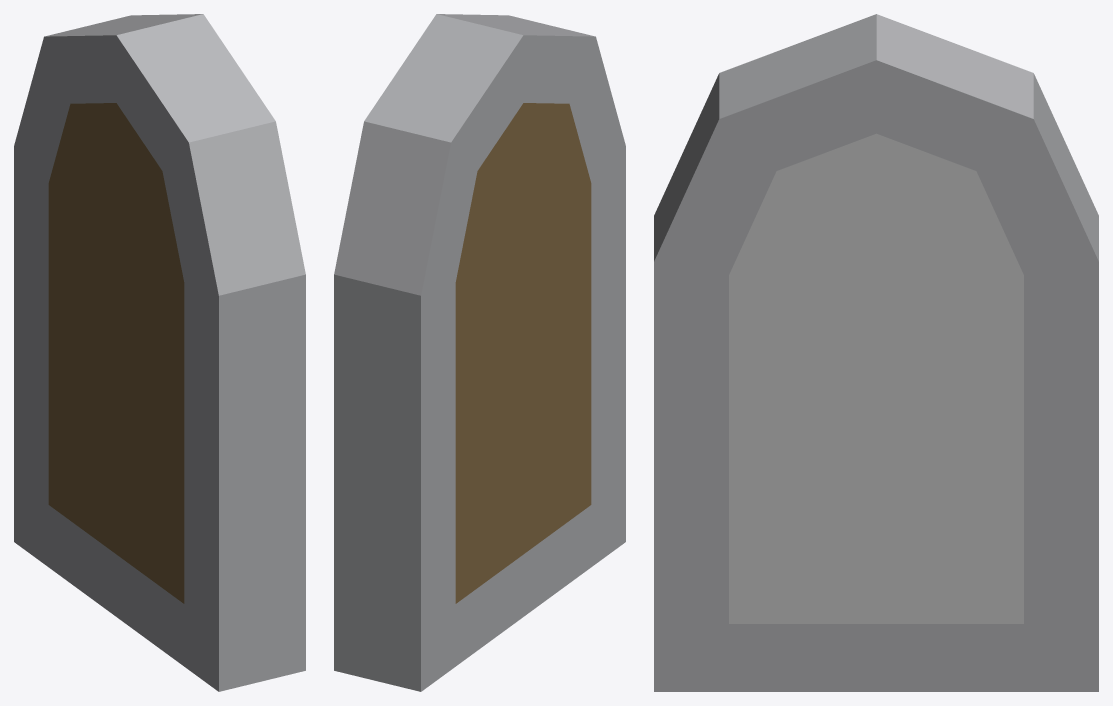
The model's file is Iron_Door_01.obj.
3 views of the same model, side by side, from view 1: azimuth 30°, elevation 25°; view 2: azimuth 150°, elevation 25°; view 3: azimuth 270°, elevation 25° (orthographic). The views are drawn at different scales.
Visible parts, largest first — view 1: Mesh1_Iron_Door_Model; view 2: Mesh1_Iron_Door_Model; view 3: Mesh1_Iron_Door_Model.
Part boxes in pixels (x1,y1,x2,y2): Mesh1_Iron_Door_Model: (14,14,305,691); Mesh1_Iron_Door_Model: (334,14,625,691); Mesh1_Iron_Door_Model: (654,14,1098,691).
Size of the model in its own units: 0.3 by 1.92 by 1.22.
